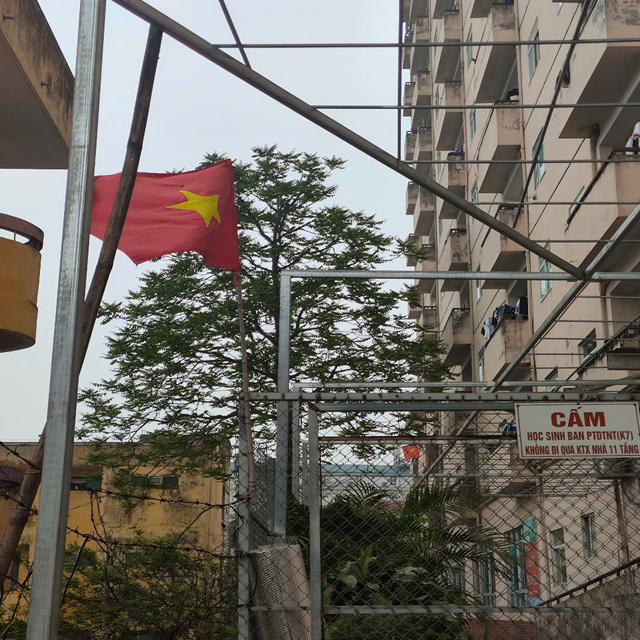laco: (79, 162, 253, 281)
